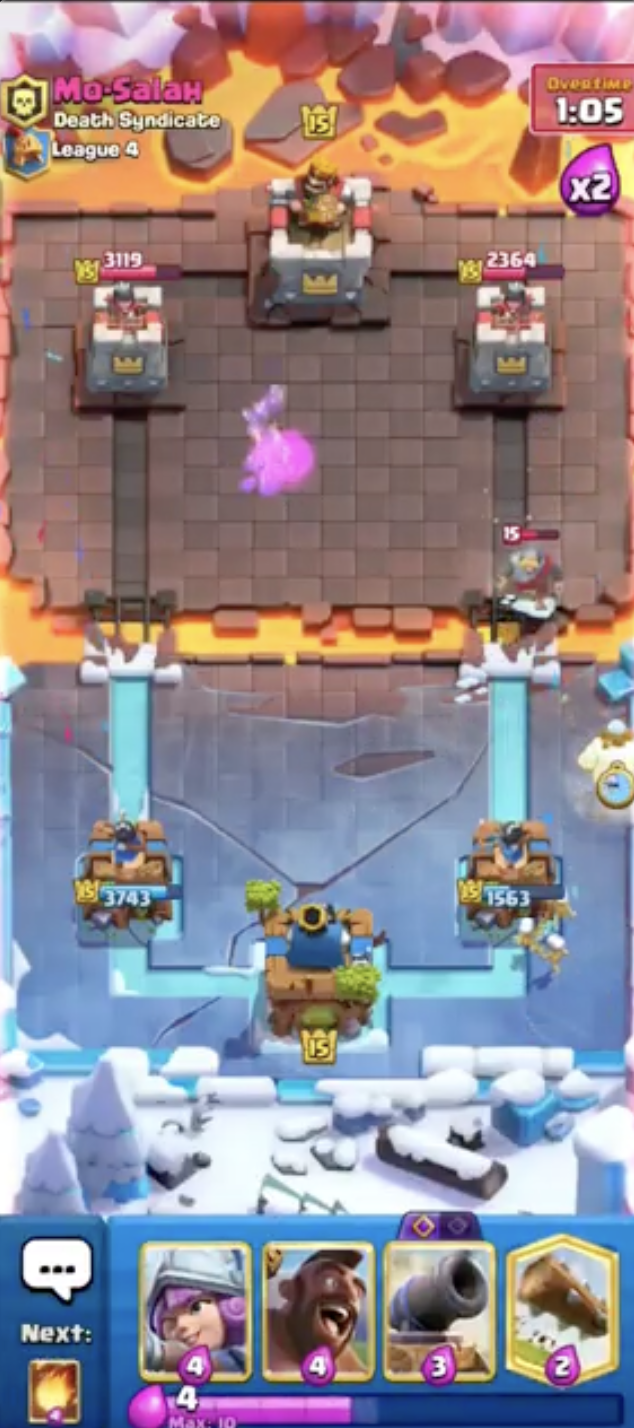ice_golem: (573, 713, 634, 810)
